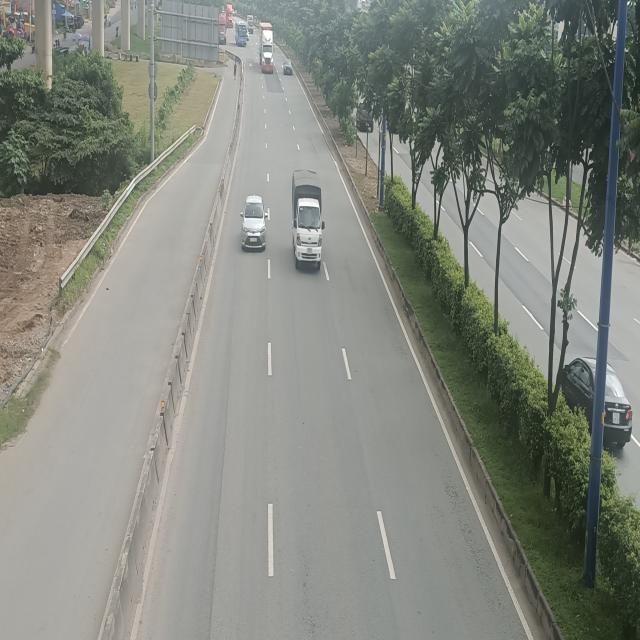car: (241, 197, 269, 251)
coach: (235, 22, 248, 46)
container: (259, 24, 275, 74), (219, 16, 227, 45), (225, 4, 234, 29)
truck: (292, 170, 324, 271)
